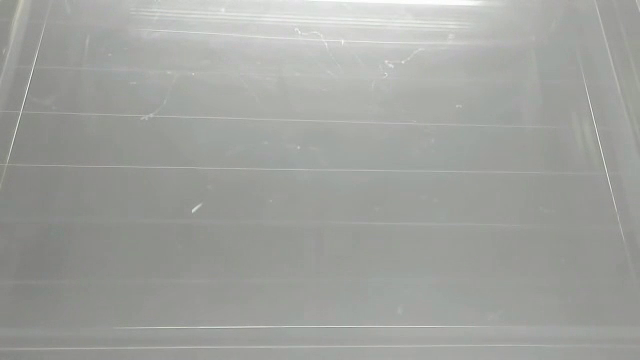alpha: (189, 201, 204, 218)
